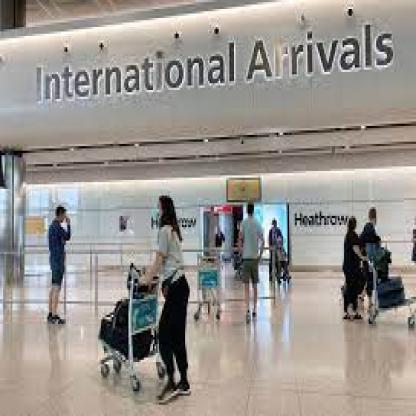airport-trolley: (96, 262, 167, 392), (369, 261, 416, 330), (194, 254, 223, 324)
